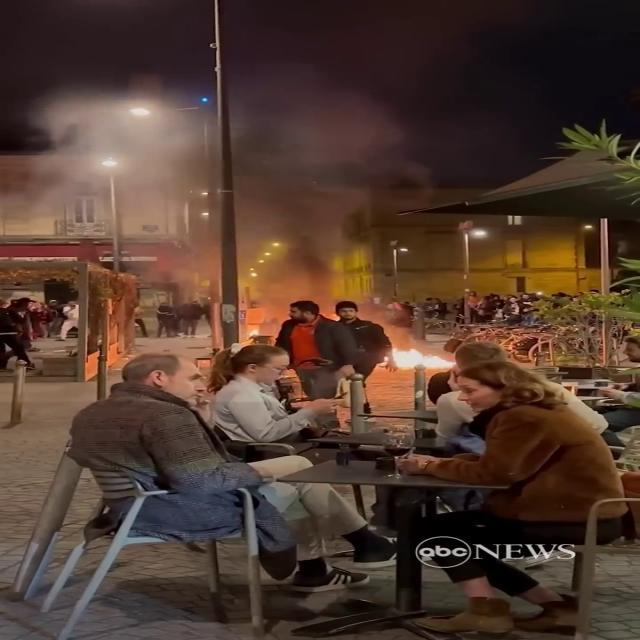Fire: (386, 338, 449, 374)
Smoke: (146, 51, 424, 302)
